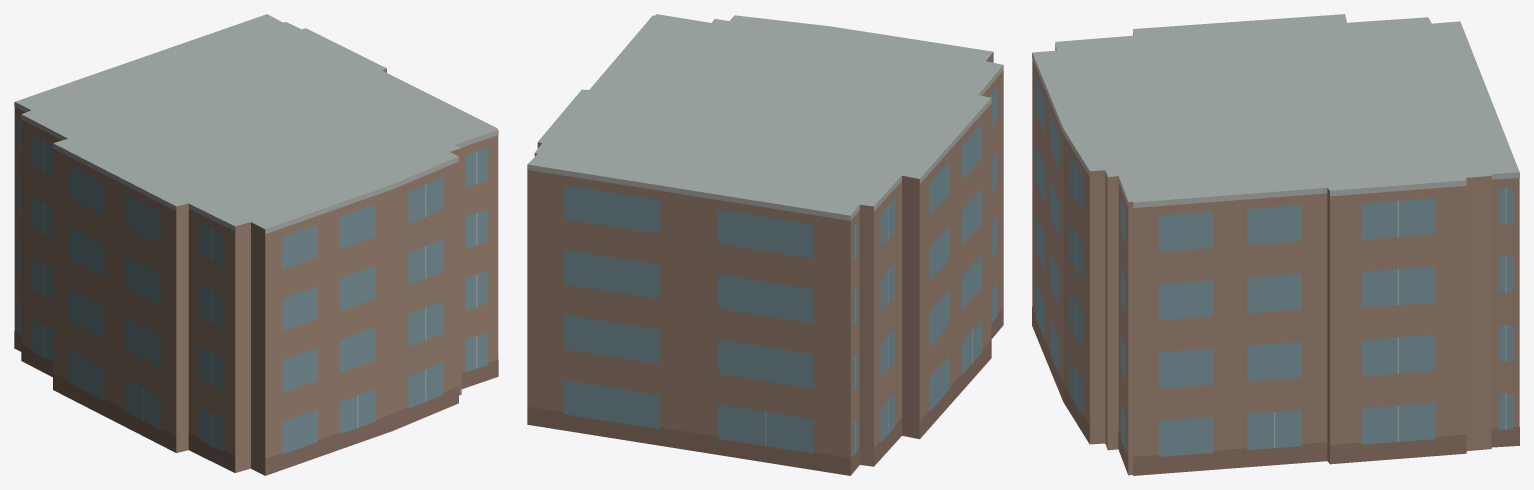
Rendered from survey-upis-32857247.glb.
3 views of the same model, side by side, from view 1: azimuth 30°, elevation 25°; view 2: azimuth 150°, elevation 25°; view 3: azimuth 270°, elevation 25° (orthographic). The views are drawn at different scales.
Visible parts, largest first — view 1: survey-upis-32857247.tmp; view 2: survey-upis-32857247.tmp; view 3: survey-upis-32857247.tmp.
Boxes of the visible parts, left/top/right/bottom form: survey-upis-32857247.tmp: left=14, top=14, right=498, bottom=475; survey-upis-32857247.tmp: left=527, top=14, right=1003, bottom=475; survey-upis-32857247.tmp: left=1032, top=14, right=1519, bottom=475.
Bounding box in the file's own units: 17.92 × 12.1 × 19.58.
